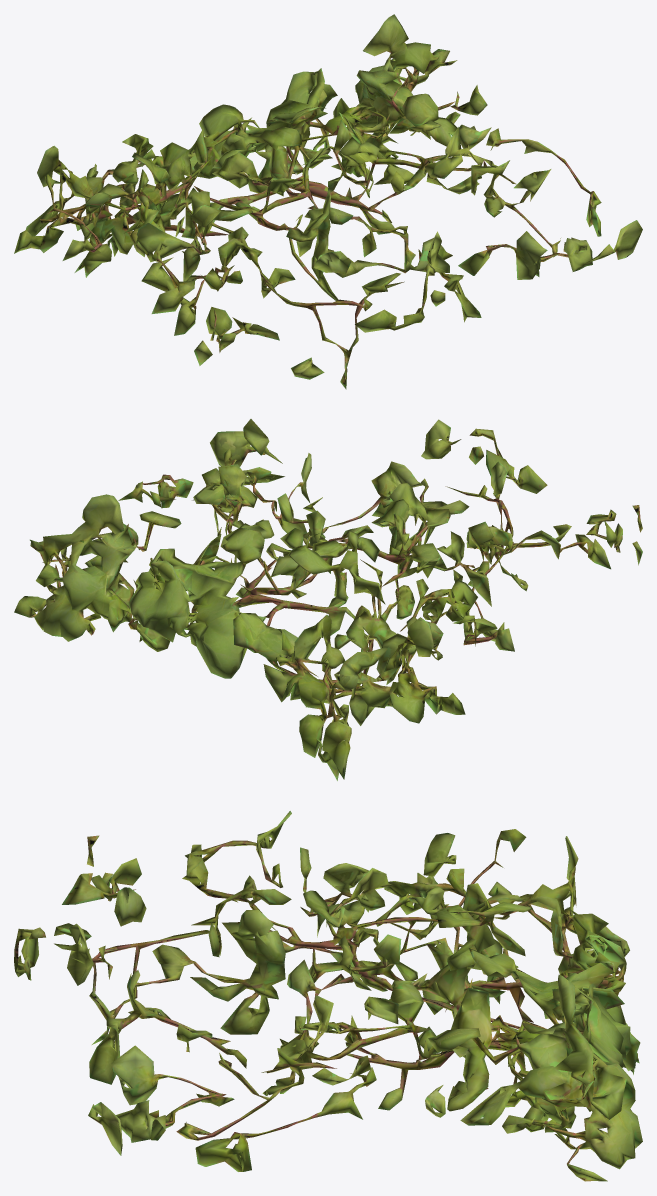
The picture shows the model from 3 angles, top to bottom: view 1: azimuth 30°, elevation 25°; view 2: azimuth 150°, elevation 25°; view 3: azimuth 270°, elevation 25°; orthographic projection. The views are drawn at different scales.
Visible parts, largest first — view 1: Mesh1; view 2: Mesh1; view 3: Mesh1.
Boxes of the visible parts, x1,y1,x2,y2 form: Mesh1: (14,14,642,389); Mesh1: (14,419,642,780); Mesh1: (14,811,642,1181).
Bounding box in the file's own units: 199 × 88.1 × 192.
1 material, 1 textured.
